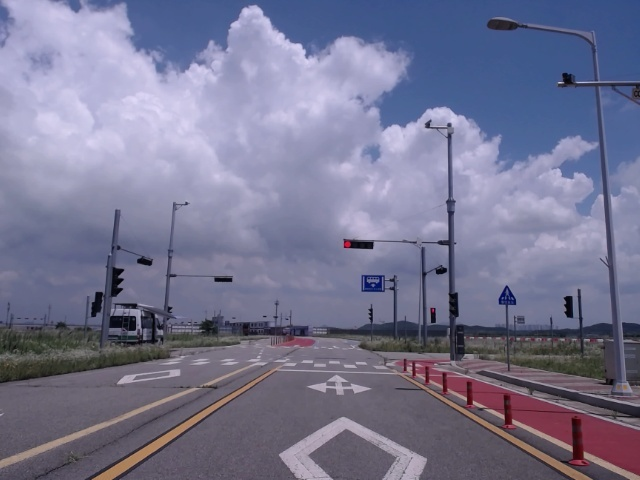red_4: (344, 240, 374, 249)
